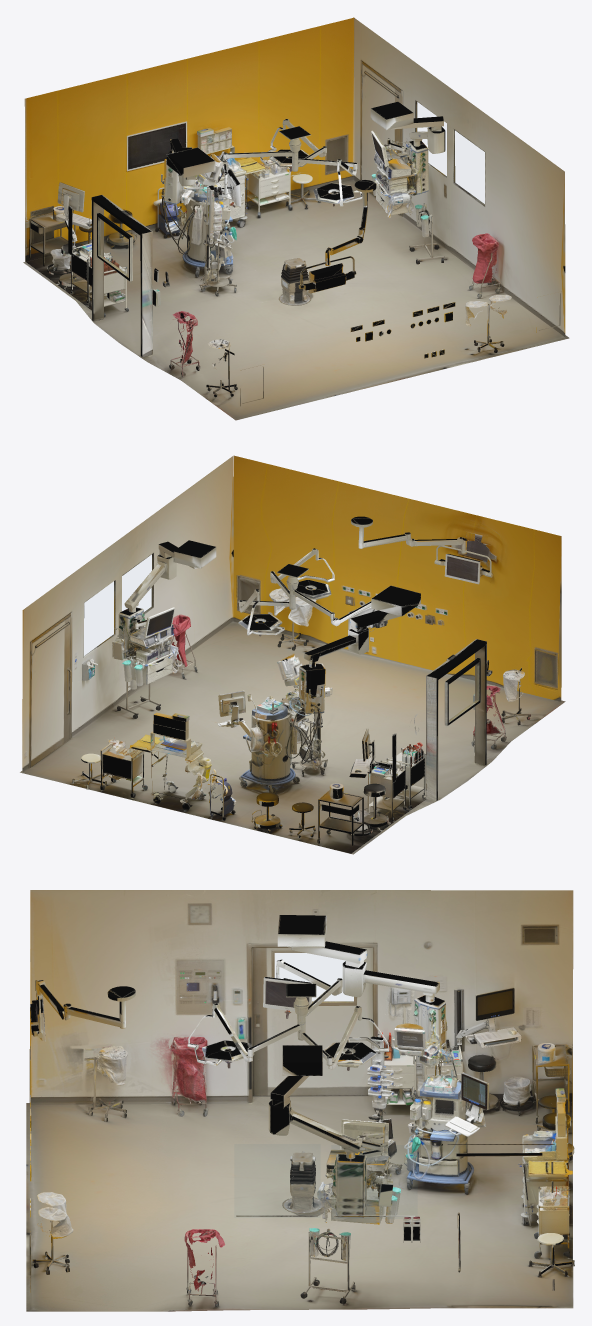
Rendered from Room_updated.glb.
The picture shows the model from 3 angles, top to bottom: view 1: azimuth 30°, elevation 25°; view 2: azimuth 150°, elevation 25°; view 3: azimuth 270°, elevation 25°; orthographic projection. The views are drawn at different scales.
Visible parts, largest first — view 1: OP_Mitte_Mitte_OP_Tex2_0, OP_Mitte_Mitte_OP_Tex1_0, OP_Mitte_Mitte_OP_Tex3_0, OP_Mitte_Mitte_OP_Tex4_0.001, OP_Mitte_Mitte_OP_Tex4_0; view 2: OP_Mitte_Mitte_OP_Tex1_0, OP_Mitte_Mitte_OP_Tex2_0, OP_Mitte_Mitte_OP_Tex4_0, OP_Mitte_Mitte_OP_Tex3_0, OP_Mitte_Mitte_OP_Tex4_0.001; view 3: OP_Mitte_Mitte_OP_Tex2_0, OP_Mitte_Mitte_OP_Tex4_0, OP_Mitte_Mitte_OP_Tex3_0, OP_Mitte_Mitte_OP_Tex1_0, OP_Mitte_Mitte_OP_Tex4_0.001.
Boxes of the visible parts, box(x1,y1,x2,y2) form: OP_Mitte_Mitte_OP_Tex2_0: box(23, 17, 569, 420); OP_Mitte_Mitte_OP_Tex1_0: box(30, 17, 565, 405); OP_Mitte_Mitte_OP_Tex3_0: box(29, 123, 507, 393); OP_Mitte_Mitte_OP_Tex4_0.001: box(32, 118, 504, 372); OP_Mitte_Mitte_OP_Tex4_0: box(80, 60, 504, 397); OP_Mitte_Mitte_OP_Tex1_0: box(22, 455, 561, 836); OP_Mitte_Mitte_OP_Tex2_0: box(20, 540, 565, 854); OP_Mitte_Mitte_OP_Tex4_0: box(30, 518, 530, 838); OP_Mitte_Mitte_OP_Tex3_0: box(30, 516, 529, 845); OP_Mitte_Mitte_OP_Tex4_0.001: box(122, 548, 505, 843); OP_Mitte_Mitte_OP_Tex2_0: box(26, 945, 573, 1311); OP_Mitte_Mitte_OP_Tex4_0: box(30, 890, 574, 1306); OP_Mitte_Mitte_OP_Tex3_0: box(30, 941, 574, 1295); OP_Mitte_Mitte_OP_Tex1_0: box(29, 919, 570, 1297); OP_Mitte_Mitte_OP_Tex4_0.001: box(30, 915, 572, 1234).
Size of the model in its own units: 5.99 by 2.78 by 6.53.
Materials: 5 (4 with a texture image).
